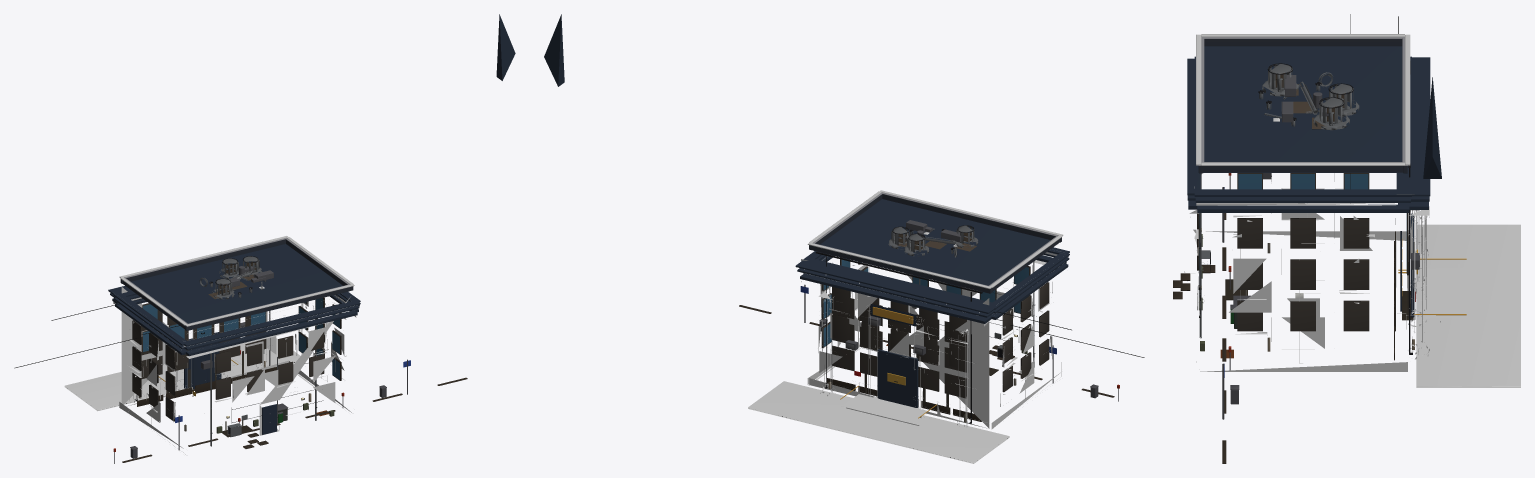
The model's file is hm_bank_annex_v10_soft.obj.
3 views of the same model, side by side, from view 1: azimuth 30°, elevation 25°; view 2: azimuth 150°, elevation 25°; view 3: azimuth 270°, elevation 25° (orthographic). The views are drawn at different scales.
Parts seen in each view (by area): view 1: SoftLOD; view 2: SoftLOD; view 3: SoftLOD.
Boxes of the visible parts, bbox=[...] form: SoftLOD: bbox=[14, 14, 515, 463]; SoftLOD: bbox=[544, 14, 1144, 463]; SoftLOD: bbox=[1173, 14, 1520, 463].
Bounding box in the file's own units: 50.78 × 27.09 × 18.3.
